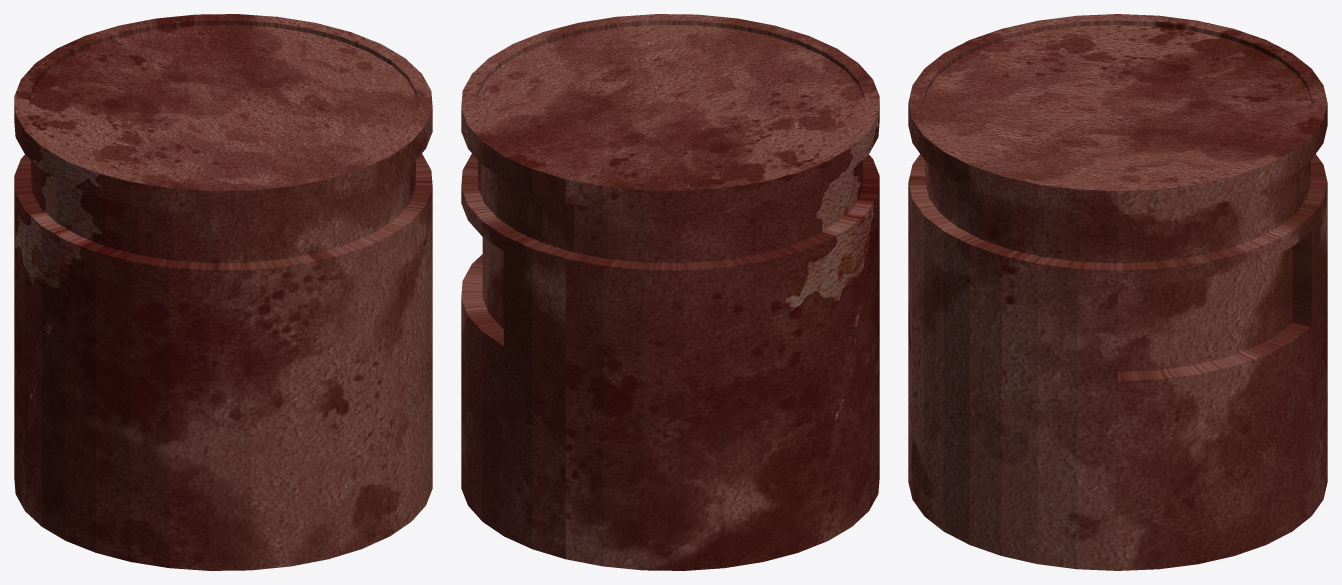
File: bridgeExport.fbx
The picture shows the model from 3 angles, left to right: view 1: azimuth 30°, elevation 25°; view 2: azimuth 150°, elevation 25°; view 3: azimuth 270°, elevation 25°; orthographic projection.
Visible parts, largest first — view 1: Cylinder; view 2: Cylinder; view 3: Cylinder.
Part boxes in pixels (<box>): Cylinder: <box>14,14,432,570</box>; Cylinder: <box>461,14,879,570</box>; Cylinder: <box>908,14,1327,570</box>.
Bounding box in the file's own units: 200 × 200 × 200.
Materials: 1 (1 with a texture image).
